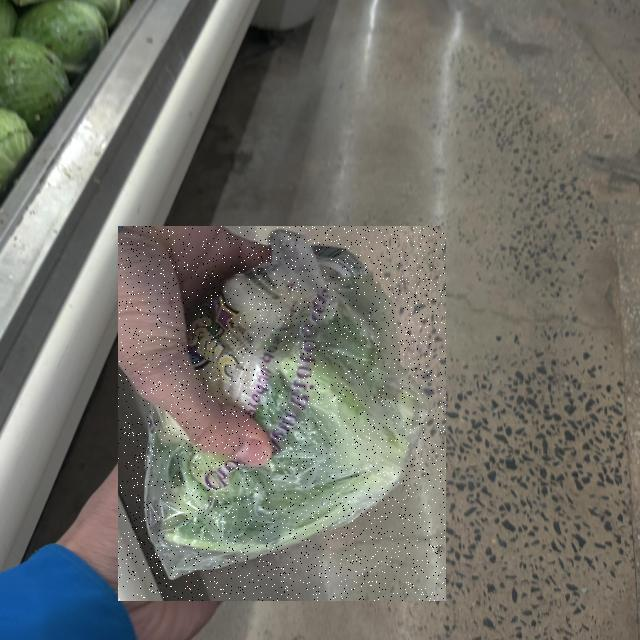Cauliflower: (118, 226, 446, 601)
